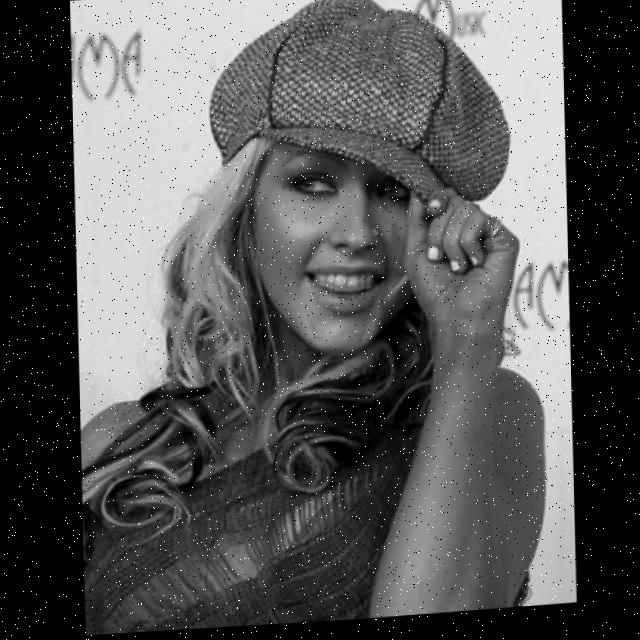face: (239, 105, 446, 380)
